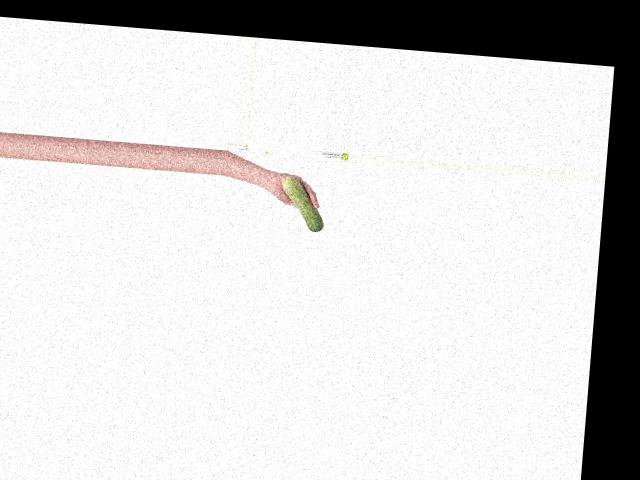cucumber: (278, 176, 326, 231)
